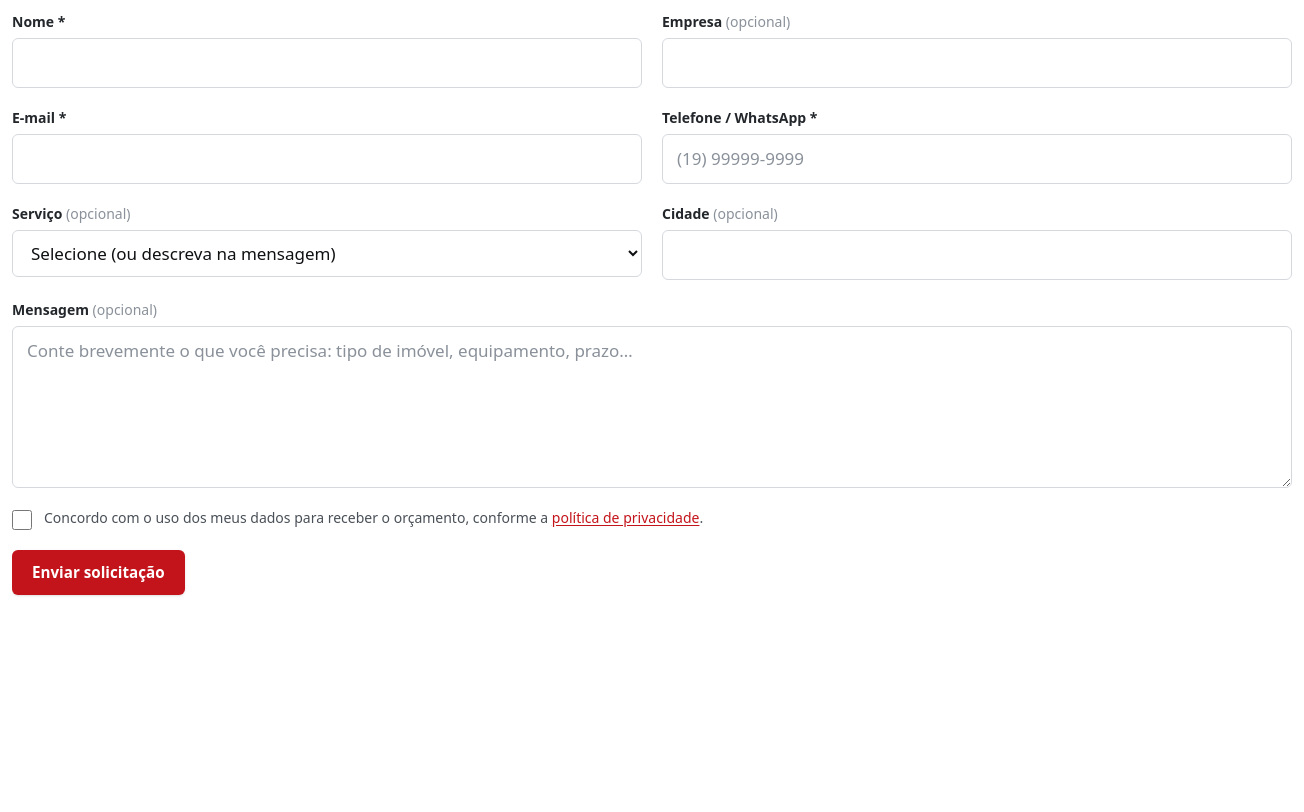
Test: QuoteForm › shows inline errors and does not submit when required fields are empty
Click the button "Enviar solicitação" at (98, 573), box [12,550,185,596]
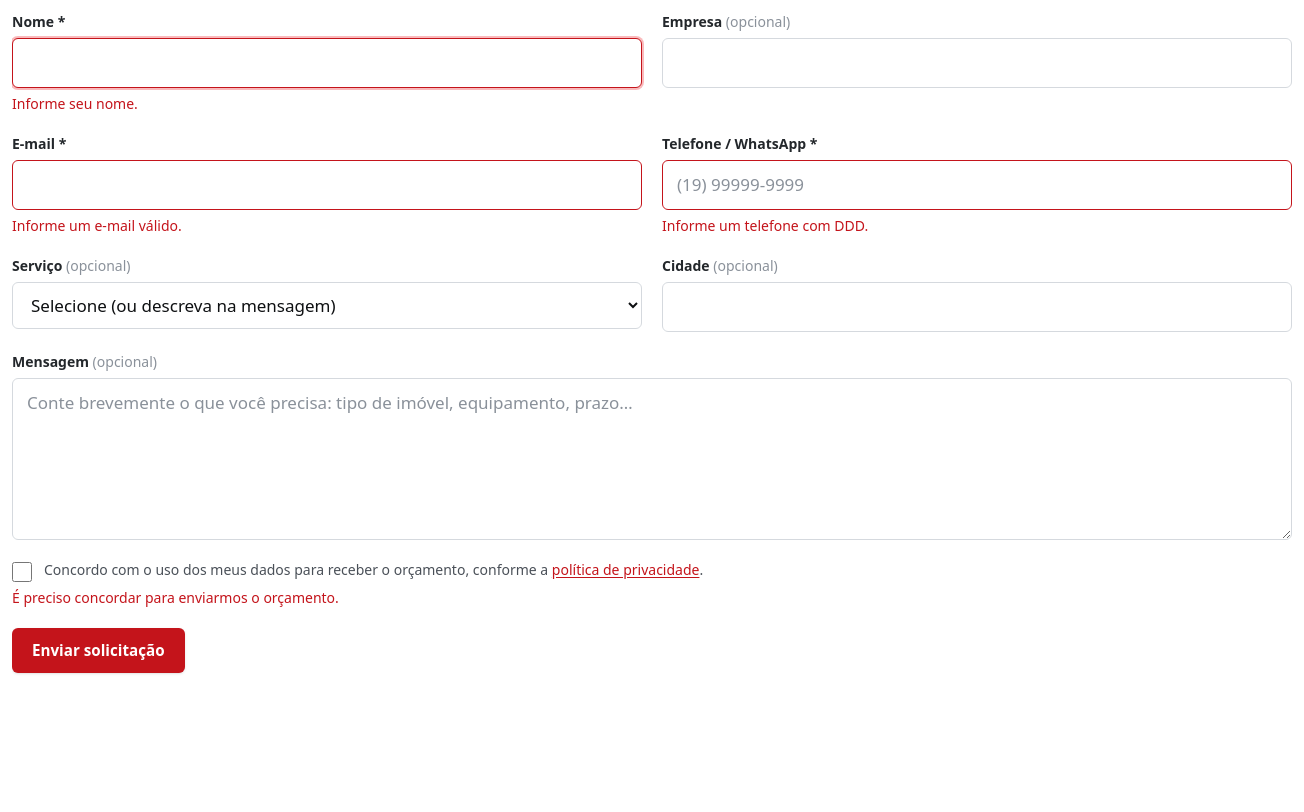
Check: the text "Informe seu nome." is shown, box [12,94,138,113]
Check: the text "Informe um e-mail válido." is shown, box [12,216,182,235]
Check: the text "Informe um telefone com DDD." is shown, box [662,216,868,235]
